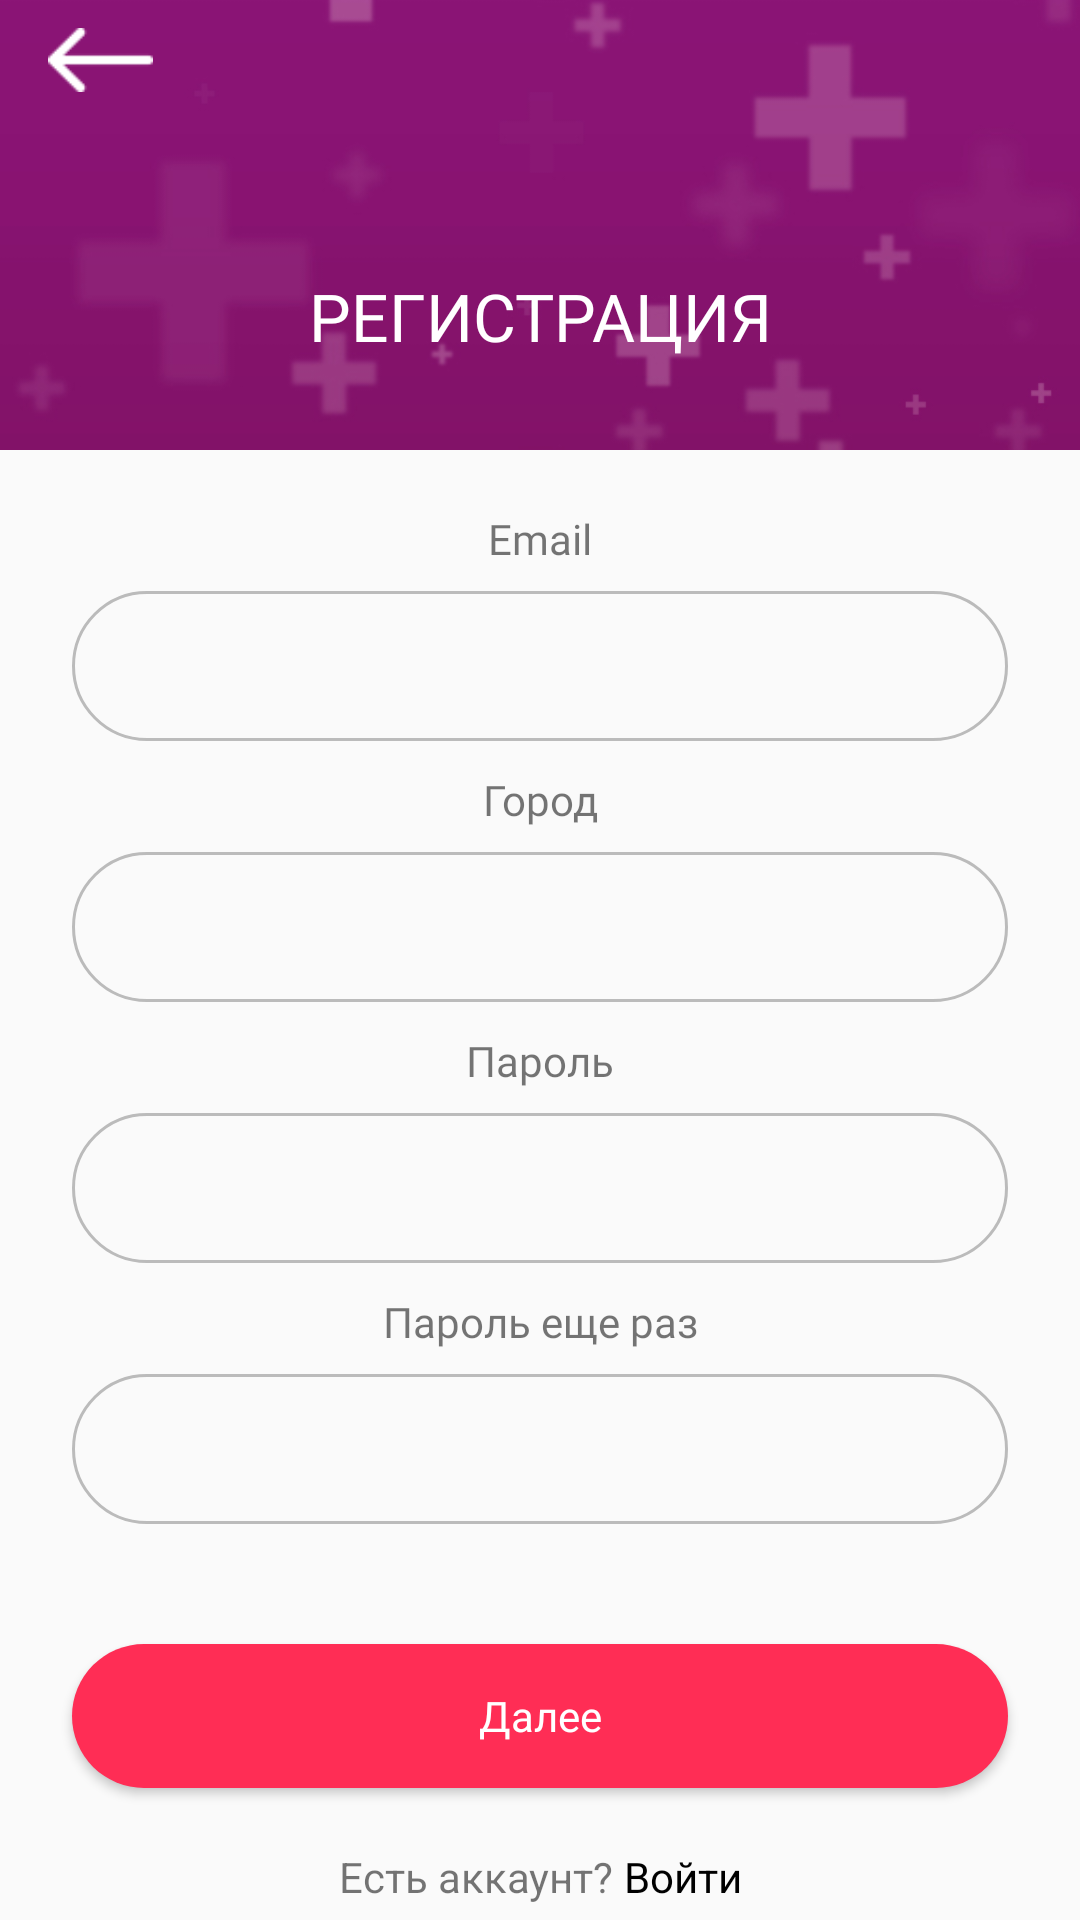

Icons on this 1080x1920 Android screen, each with the point to tap as (x,y):
arrow back: (100,60)
